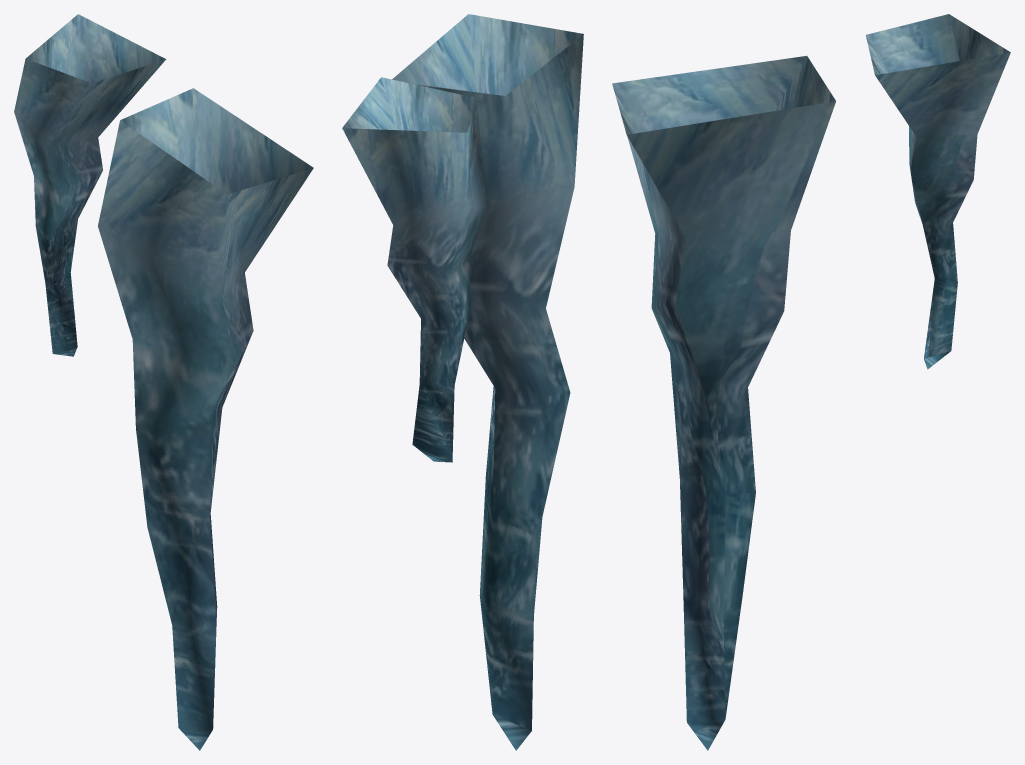
Rendered from environment_common_bingzhui_001_a.FBX.
3 renders of one model, left to right at view 1: azimuth 30°, elevation 25°; view 2: azimuth 150°, elevation 25°; view 3: azimuth 270°, elevation 25°, orthographic. The views are drawn at different scales.
Parts seen in each view (by area): view 1: environment_common_bingzhui_001_a; view 2: environment_common_bingzhui_001_a; view 3: environment_common_bingzhui_001_a.
Part boxes in pixels (x1,y1,x2,y2): environment_common_bingzhui_001_a: (14,14,313,750); environment_common_bingzhui_001_a: (342,14,583,750); environment_common_bingzhui_001_a: (612,14,1010,750).
Bounding box in the file's own units: 26.02 × 102 × 52.43.
Materials: 1 (1 with a texture image).
